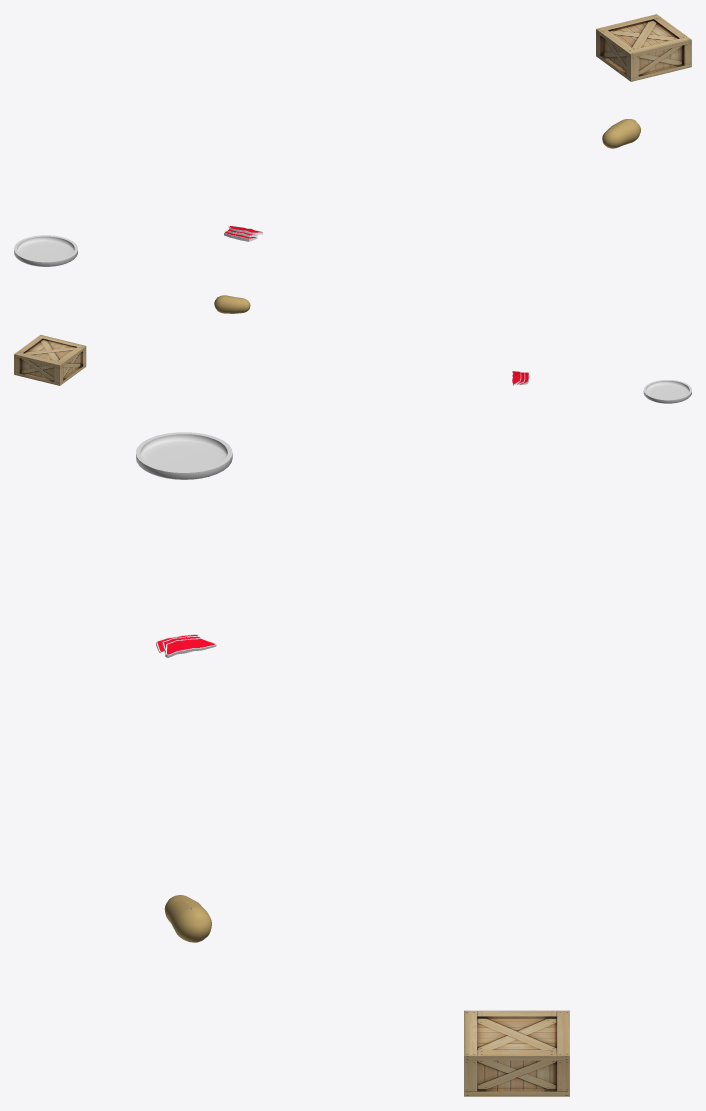
File: CocinaConPersonaje.20V2blend.fbx
3 renders of one model, top to bottom at view 1: azimuth 30°, elevation 25°; view 2: azimuth 150°, elevation 25°; view 3: azimuth 270°, elevation 25°, orthographic. The views are drawn at different scales.
Visible parts, largest first — view 1: CajaComida.001, Plato.002, Sphere.001, CarneCortadaCruda; view 2: CajaComida.001, Plato.002, Sphere.001, CarneCortadaCruda; view 3: CajaComida.001, Plato.002, Sphere.001.
Part boxes in pixels (x1,y1,x2,y2): CajaComida.001: (596, 14, 691, 81); Plato.002: (14, 235, 77, 266); Sphere.001: (602, 119, 640, 148); CarneCortadaCruda: (224, 225, 263, 241); CajaComida.001: (14, 335, 86, 385); Plato.002: (643, 380, 691, 403); Sphere.001: (214, 295, 250, 313); CarneCortadaCruda: (512, 371, 529, 385); CajaComida.001: (464, 1010, 569, 1096); Plato.002: (136, 432, 232, 479); Sphere.001: (164, 895, 211, 942).
Bounding box in the file's own units: 4406 × 365 × 1433.
Materials: 5 (1 with a texture image).
